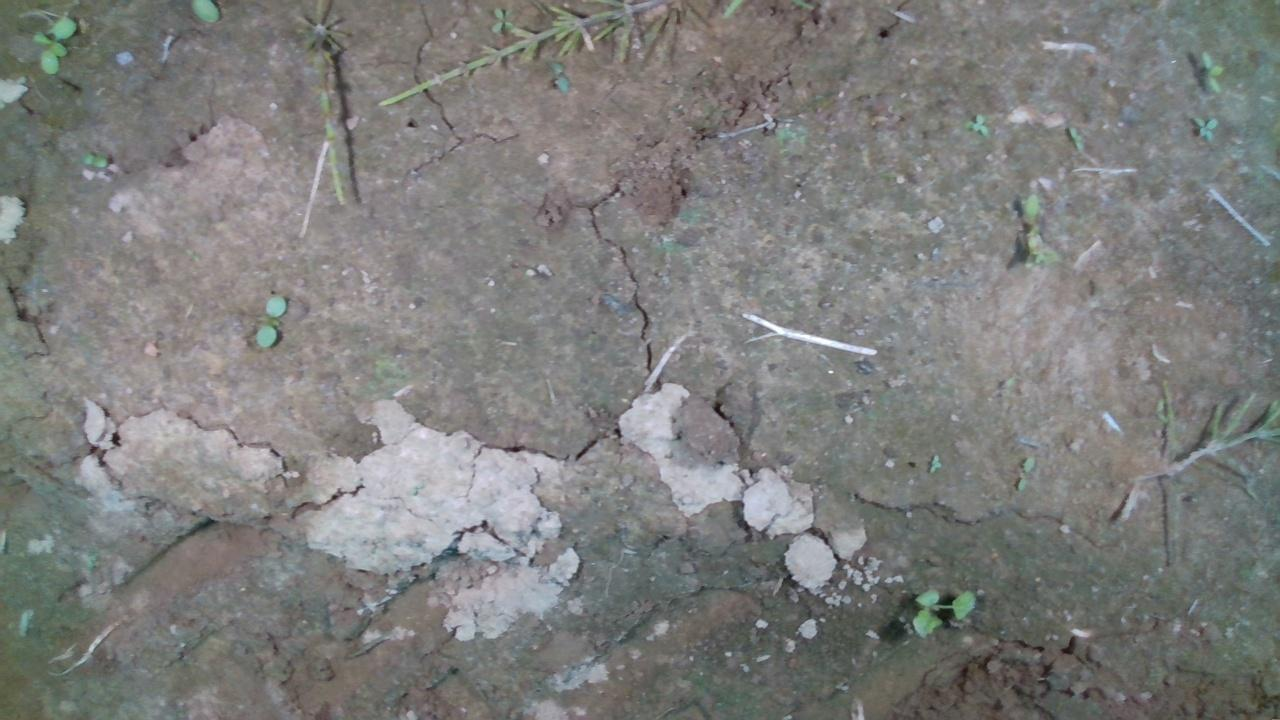weed: (910, 586, 976, 638), (27, 12, 76, 74), (253, 293, 287, 349), (1201, 47, 1222, 97), (1189, 113, 1218, 142), (1016, 455, 1034, 490), (1065, 124, 1085, 153), (969, 110, 990, 137), (80, 151, 109, 169), (925, 451, 940, 473)
